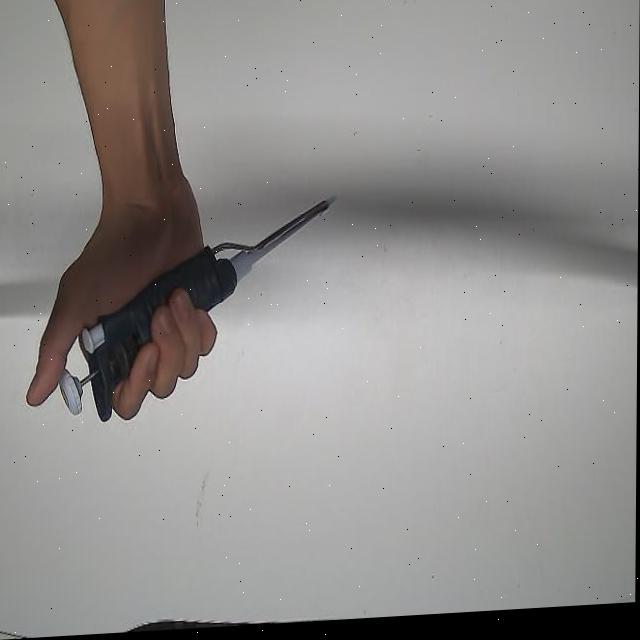Single Channel Pipettor: (59, 192, 343, 427)
